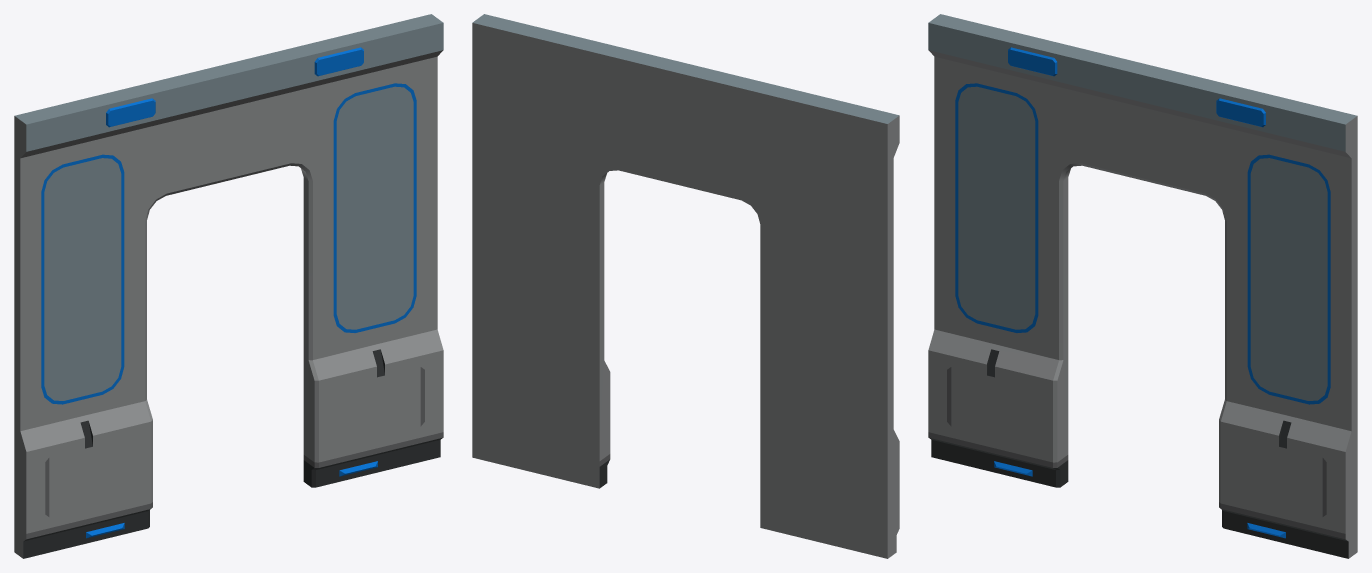
Rendered from Wall_type_B_074.fbx.
3 renders of one model, left to right at view 1: azimuth 30°, elevation 25°; view 2: azimuth 150°, elevation 25°; view 3: azimuth 330°, elevation 25°, orthographic.
Parts seen in each view (by area): view 1: Wall_type_B_074; view 2: Wall_type_B_074; view 3: Wall_type_B_074.
Part boxes in pixels (x1,y1,x2,y2): Wall_type_B_074: (14, 14, 443, 558); Wall_type_B_074: (472, 14, 899, 558); Wall_type_B_074: (928, 14, 1357, 558).
Bounding box in the file's own units: 400 × 22 × 400.
